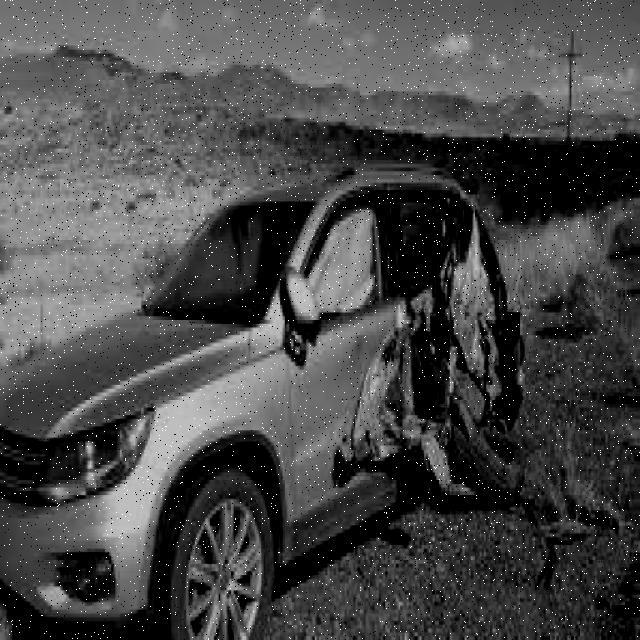car damage: (327, 186, 525, 532)
